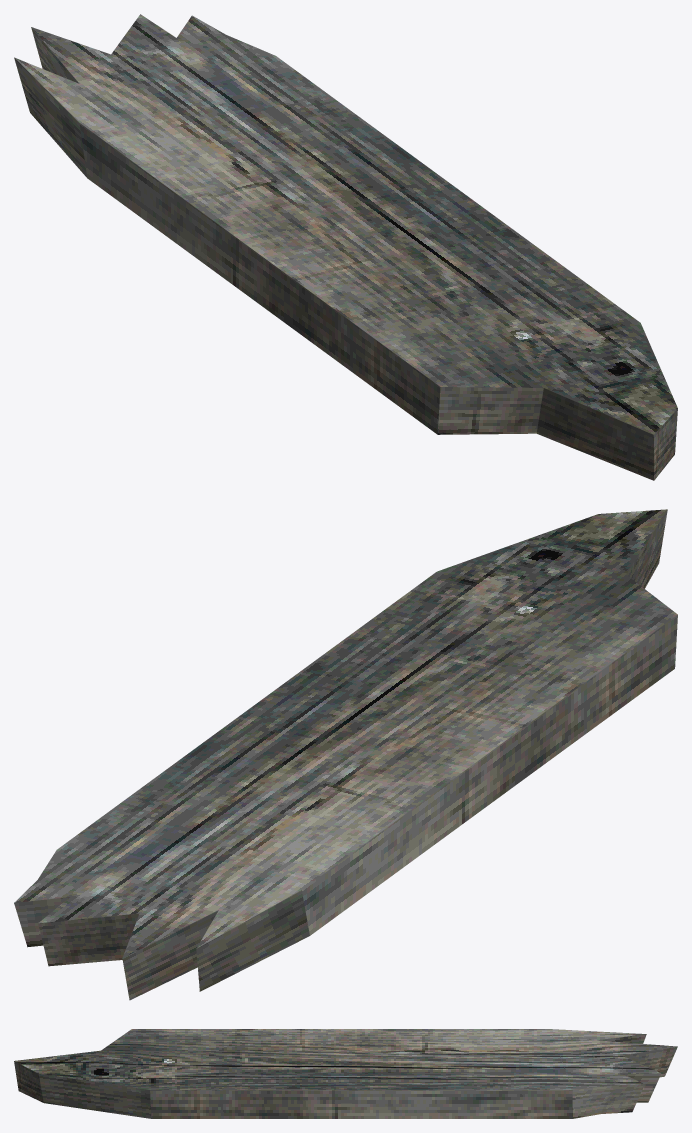
The model's file is wooden_plank_3.glb.
3 renders of one model, top to bottom at view 1: azimuth 30°, elevation 25°; view 2: azimuth 150°, elevation 25°; view 3: azimuth 270°, elevation 25°, orthographic. The views are drawn at different scales.
Parts seen in each view (by area): view 1: Wooden_Plank_3; view 2: Wooden_Plank_3; view 3: Wooden_Plank_3.
Part boxes in pixels (box(x1,y1,x2,y2)): Wooden_Plank_3: box(14, 14, 677, 480); Wooden_Plank_3: box(14, 509, 677, 1000); Wooden_Plank_3: box(14, 1029, 677, 1118).
Size of the model in its own units: 0.4245 by 0.0951 by 1.95.
1 material, 1 textured.
